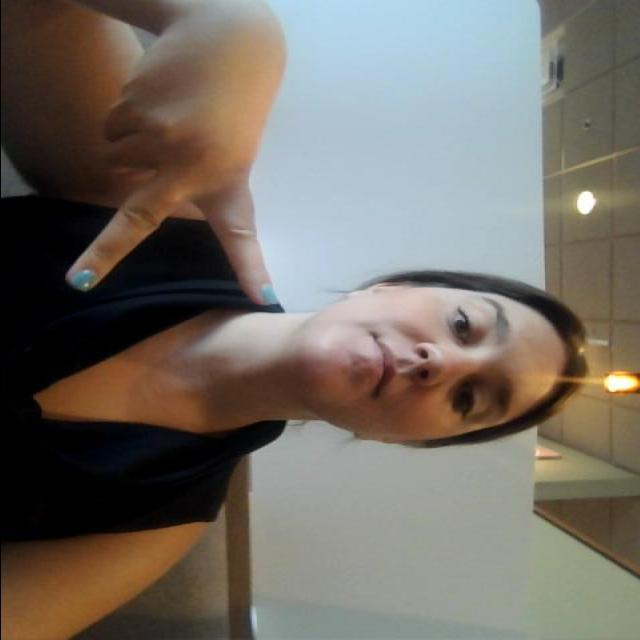Scissors: (16, 8, 338, 322)
